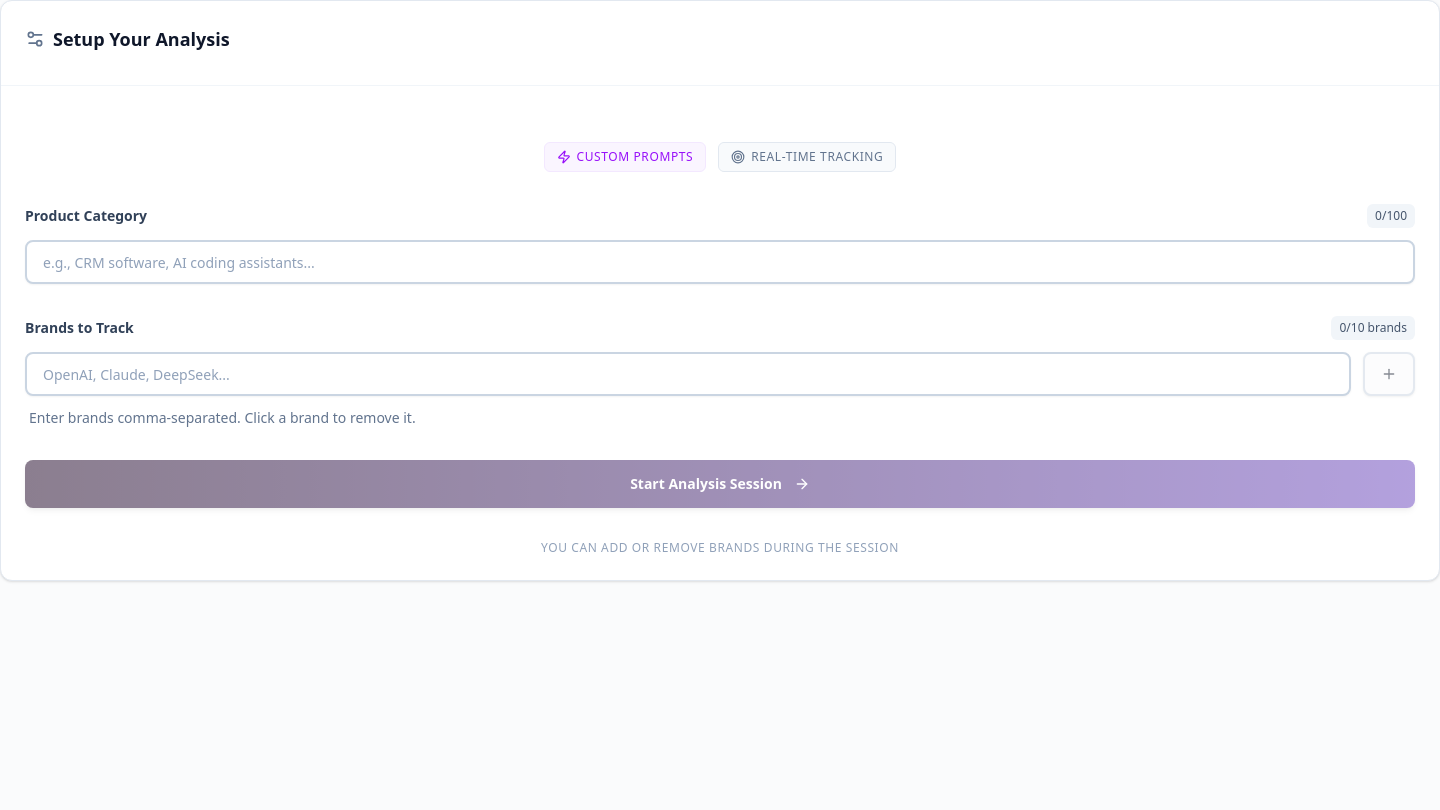
Test: SessionSetup - extended coverage › brand management › allows adding multiple brands sequentially
In the field with placeholder "OpenAI, Claude, DeepSeek...": (688, 374) [25, 352, 1351, 396], type "First"
Then press Enter
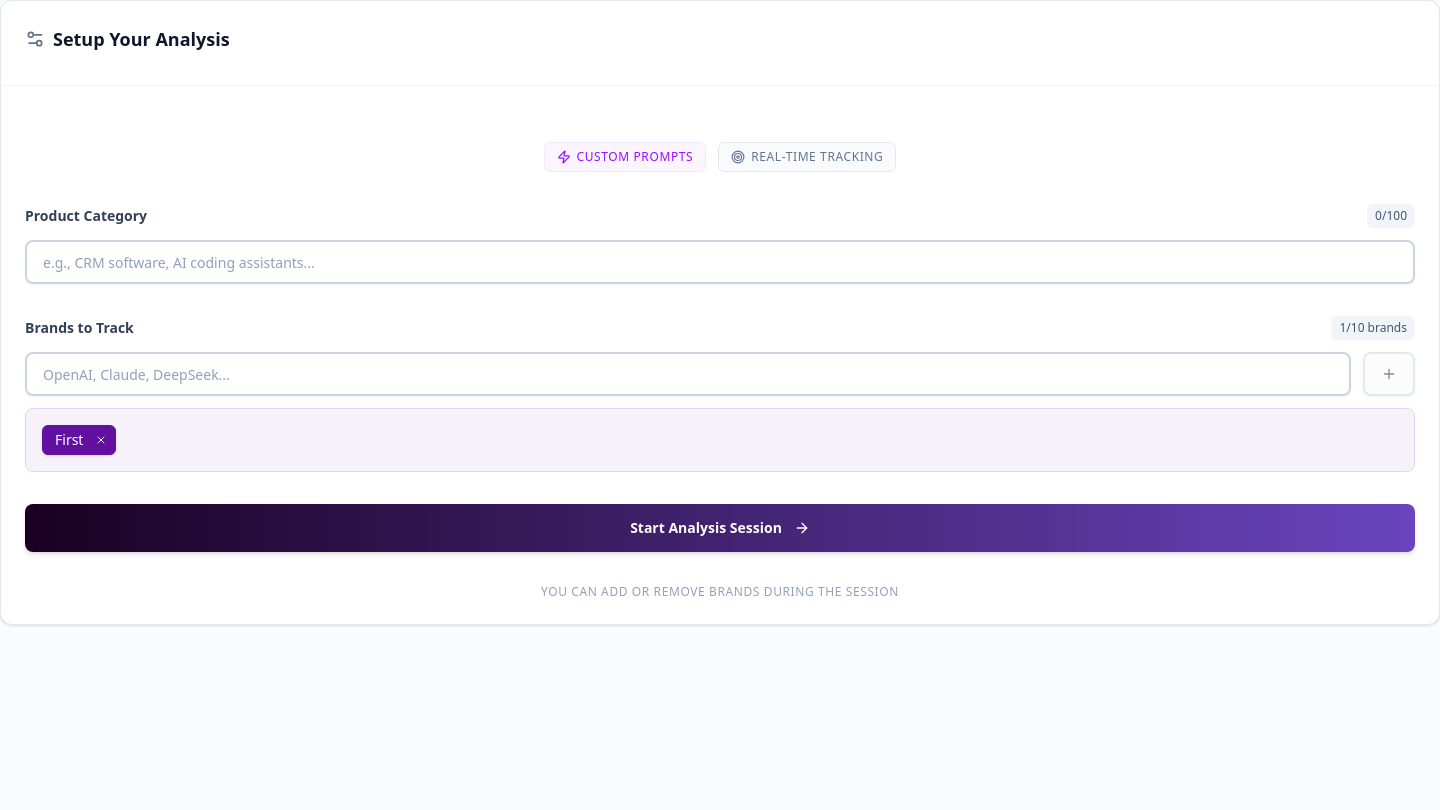
In the field with placeholder "OpenAI, Claude, DeepSeek...": (688, 374) [25, 352, 1351, 396], type "Second"
Then press Enter
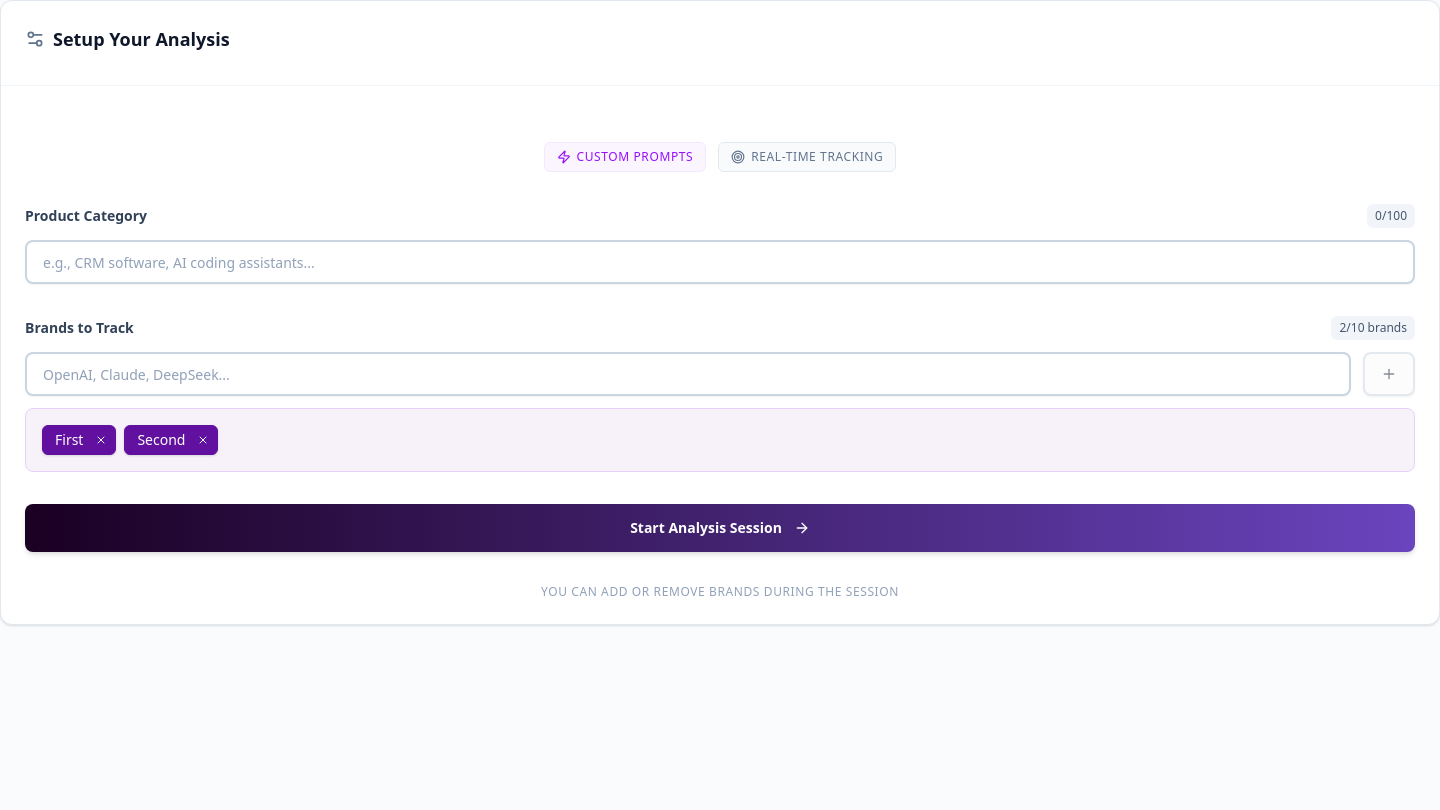
In the field with placeholder "OpenAI, Claude, DeepSeek...": (688, 374) [25, 352, 1351, 396], type "Third"
Then press Enter
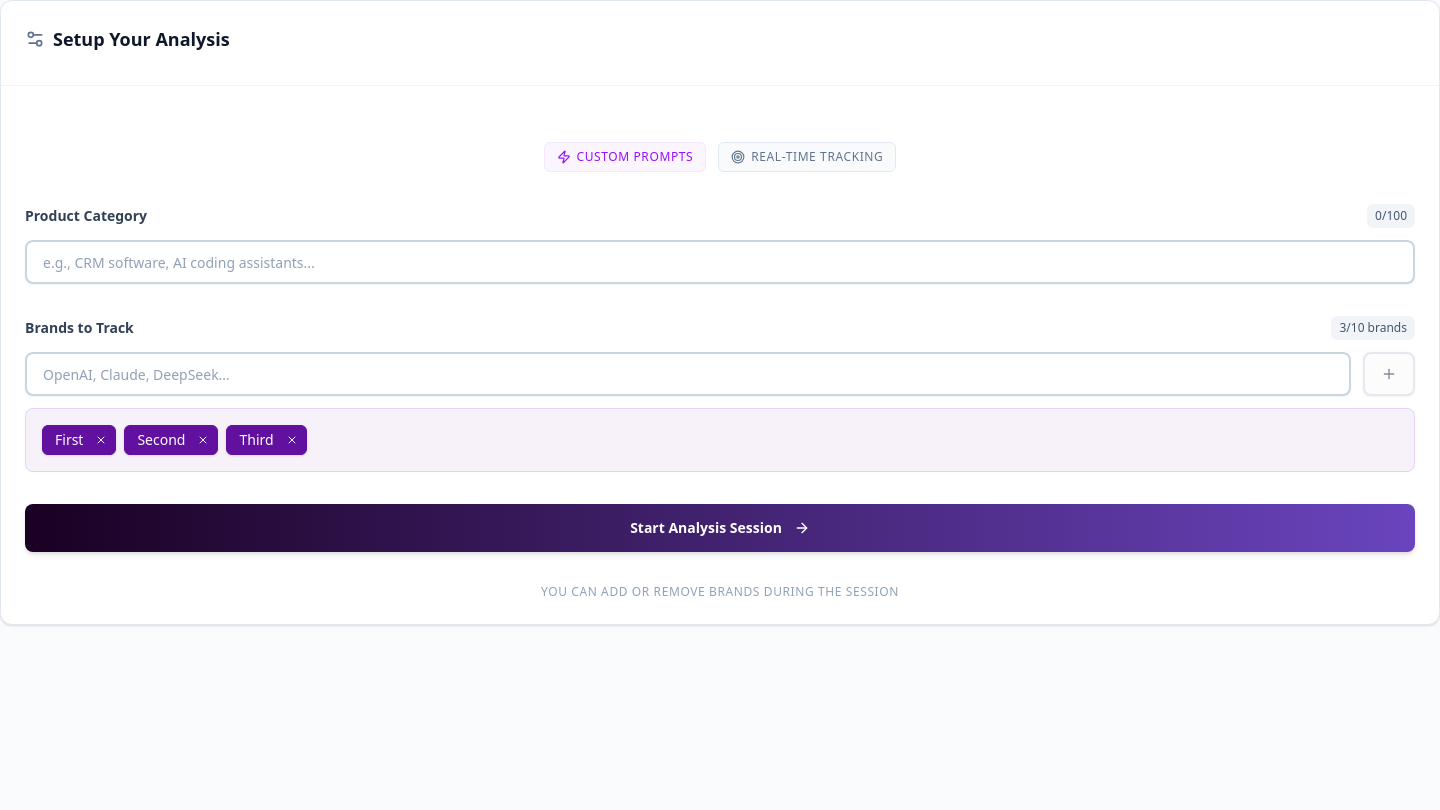
Result: the text "First" is shown at [42, 425, 116, 455]
Result: the text "Second" is shown at [124, 425, 218, 455]
Result: the text "Third" is shown at [226, 425, 307, 455]
